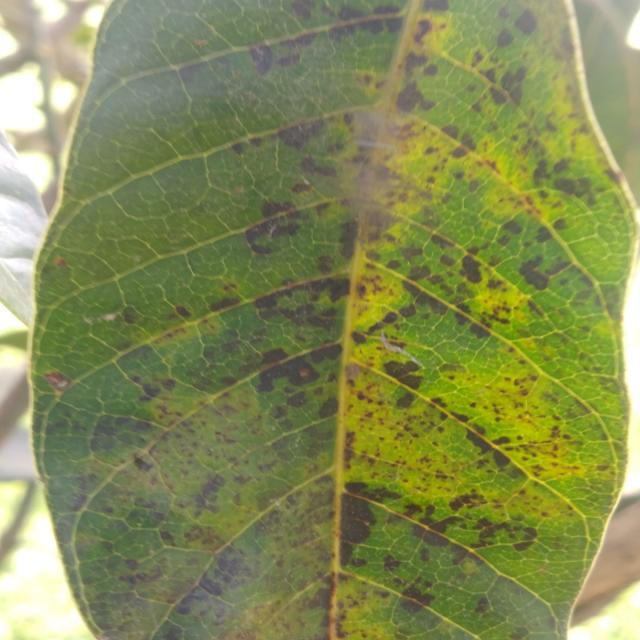Anthracnose: (263, 0, 572, 549)
